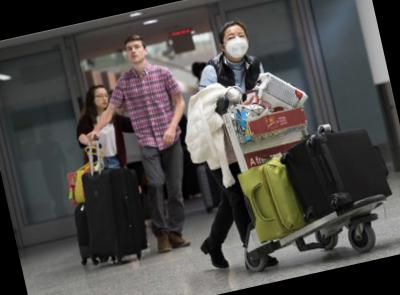with_mask: (222, 27, 252, 61)
without_mask: (125, 40, 148, 66), (91, 87, 113, 111)
